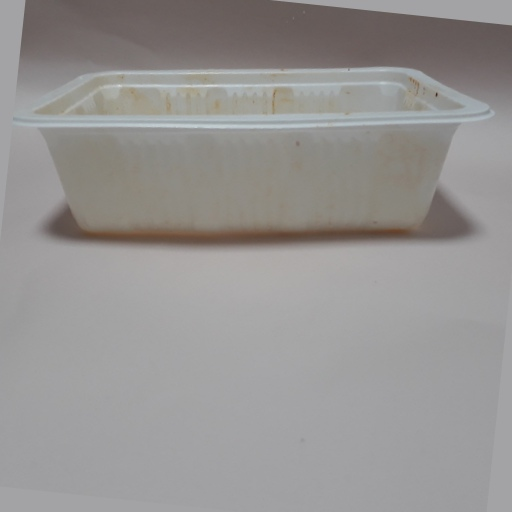Plastic_4: (8, 68, 497, 233)
